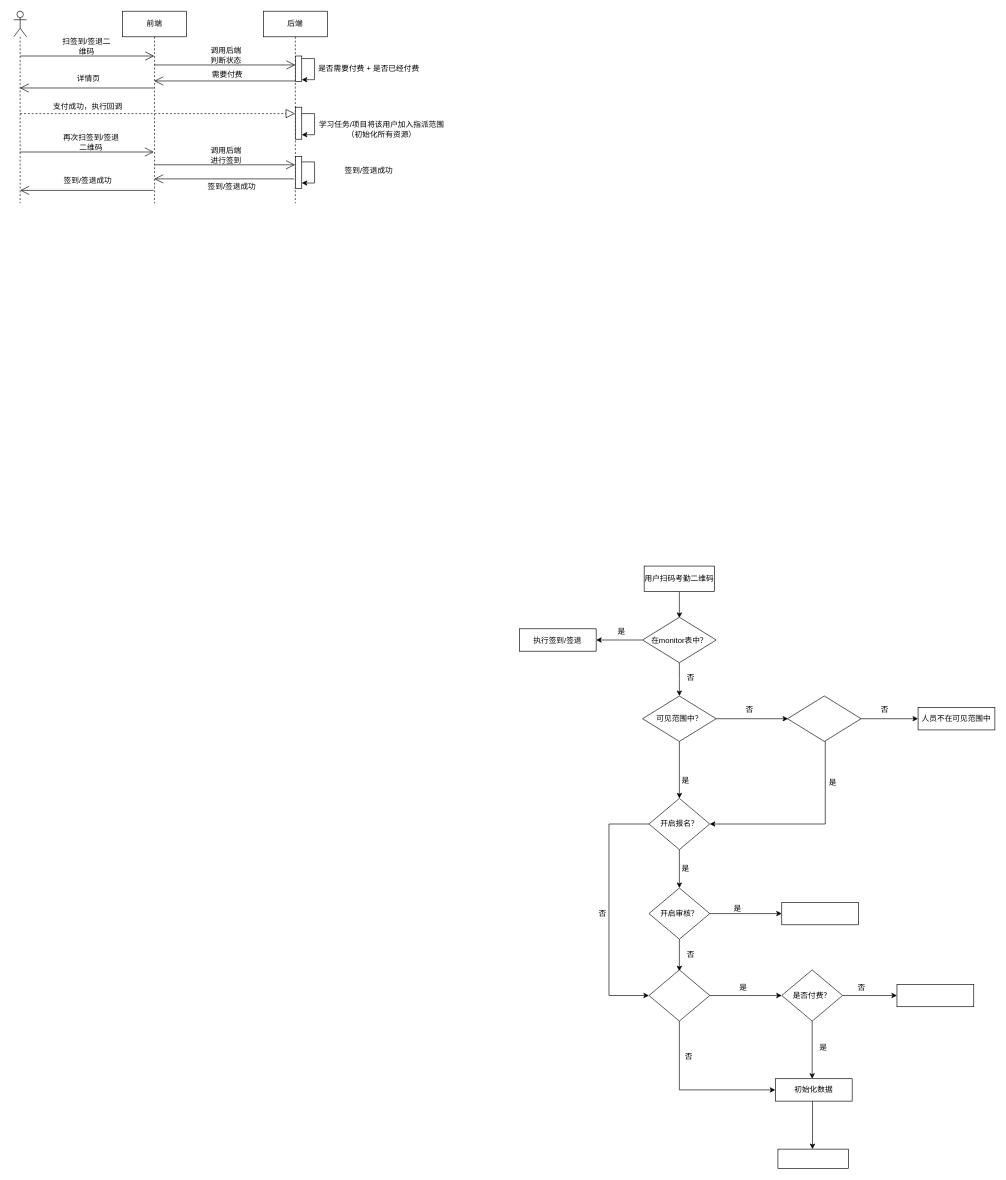
This 1006x1180 diagram has some shape labels left out. Here are the shapes that lost their labels. From the top down, the centre of each, then its label:
At point (824, 718): "开启插班生？".
At point (820, 913): "待审核".
At point (679, 995): "开启付费？".
At point (935, 995): "前端执行付费逻辑".
At point (812, 1158): "签到/签退".
